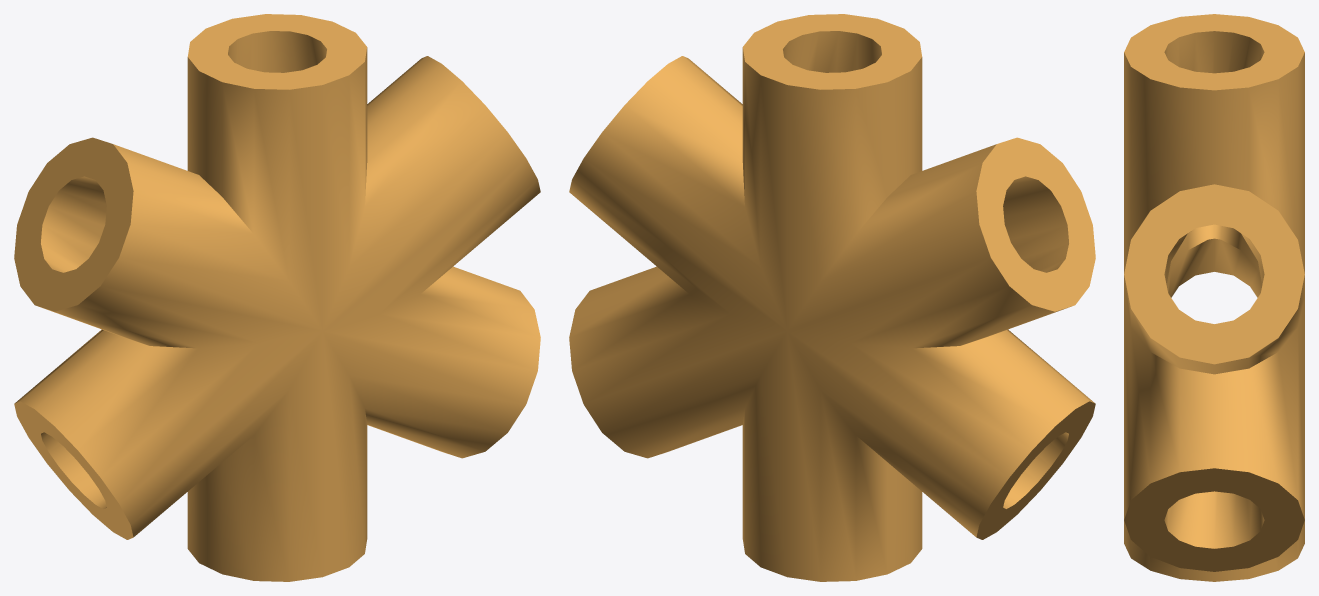
Rendered from Joint_6P.fbx.
The picture shows the model from 3 angles, left to right: view 1: azimuth 30°, elevation 25°; view 2: azimuth 150°, elevation 25°; view 3: azimuth 270°, elevation 25°; orthographic projection.
Parts seen in each view (by area): view 1: Joint_6P; view 2: Joint_6P; view 3: Joint_6P.
Part boxes in pixels (x1,y1,x2,y2): Joint_6P: (14, 14, 540, 581); Joint_6P: (569, 14, 1095, 581); Joint_6P: (1124, 14, 1304, 581).
Bounding box in the file's own units: 347 × 336 × 112.
